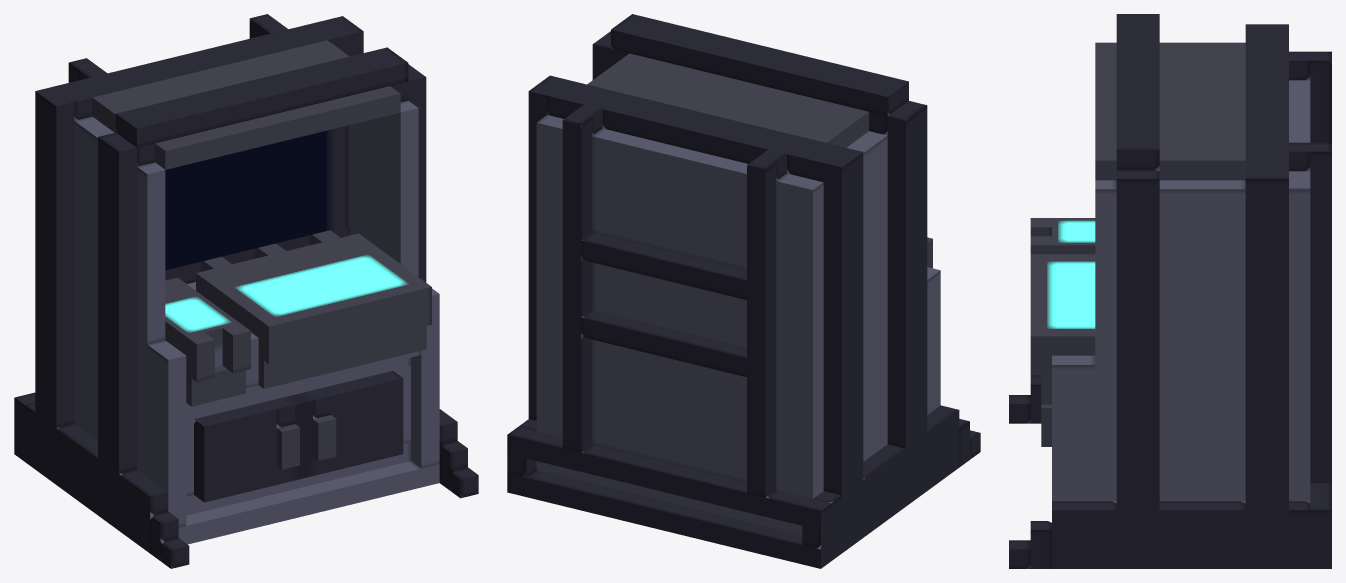
The model's file is KOMP_KONTROLA.dae.
3 views of the same model, side by side, from view 1: azimuth 30°, elevation 25°; view 2: azimuth 150°, elevation 25°; view 3: azimuth 270°, elevation 25° (orthographic). The views are drawn at different scales.
Visible parts, largest first — view 1: Content; view 2: Content; view 3: Content.
Boxes of the visible parts, <box> form: Content: <box>14,14,478,568</box>; Content: <box>507,14,980,568</box>; Content: <box>1009,14,1331,568</box>.
Bounding box in the file's own units: 34 × 42 × 30.
Materials: 1 (1 with a texture image).
